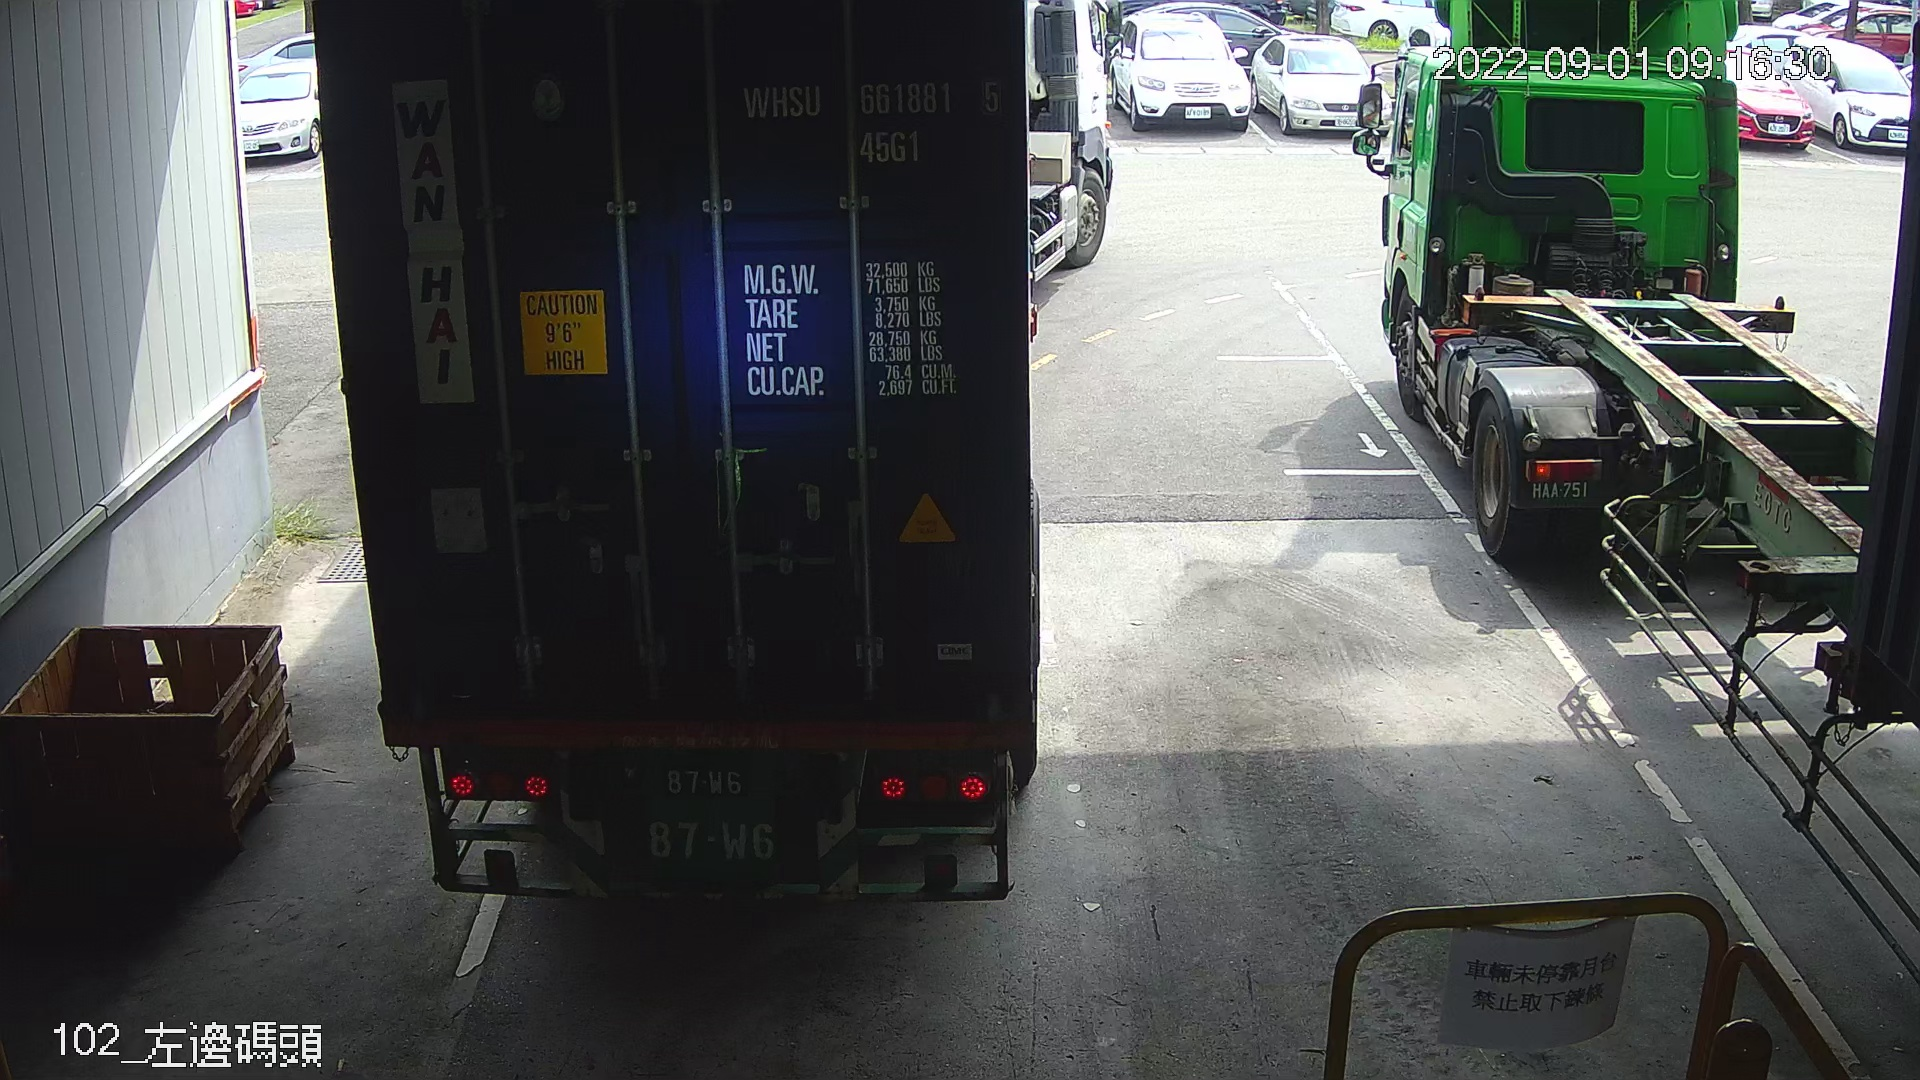container: (729, 70, 1010, 173)
